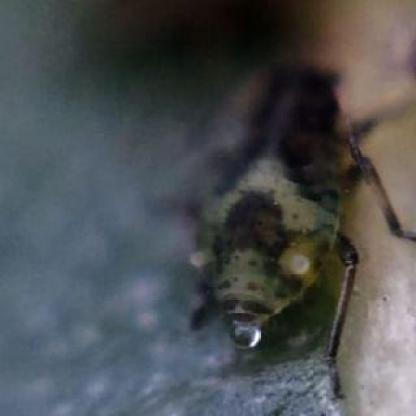aphid: (141, 52, 416, 394)
